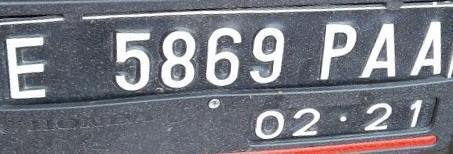clone-license-plate: (1, 6, 451, 140)
